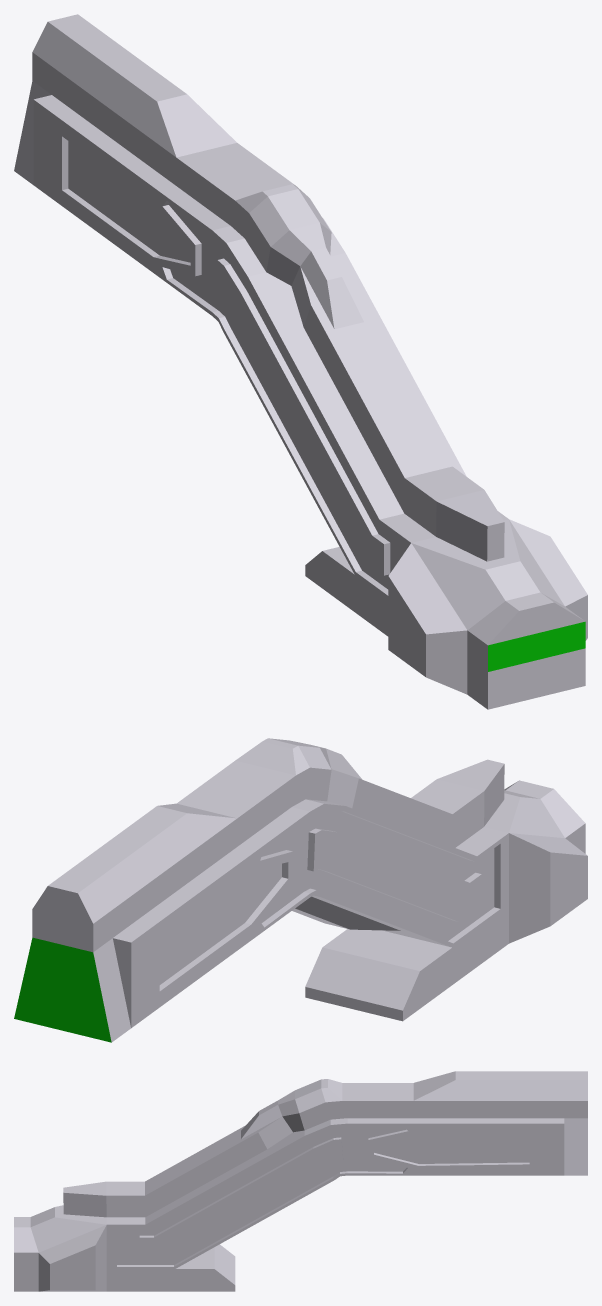
Rendered from eng.strut.vacuum.fbx.
3 views of the same model, one above another, from view 1: azimuth 30°, elevation 25°; view 2: azimuth 150°, elevation 25°; view 3: azimuth 270°, elevation 25° (orthographic). The views are drawn at different scales.
Parts seen in each view (by area): view 1: eng.strut.vacuum; view 2: eng.strut.vacuum; view 3: eng.strut.vacuum.
Part boxes in pixels (left/top/right/bottom): eng.strut.vacuum: left=14, top=14, right=587, bottom=709; eng.strut.vacuum: left=14, top=738, right=587, bottom=1042; eng.strut.vacuum: left=14, top=1071, right=587, bottom=1291.
Bounding box in the file's own units: 0.9637 × 1.89 × 4.88.
